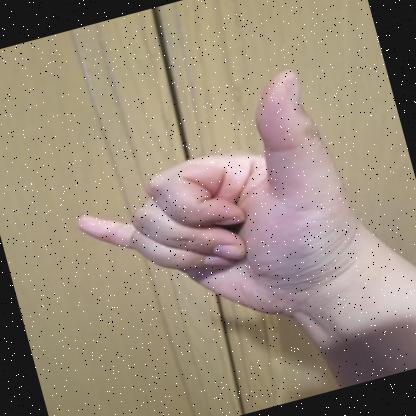Y: (77, 69, 382, 319)
